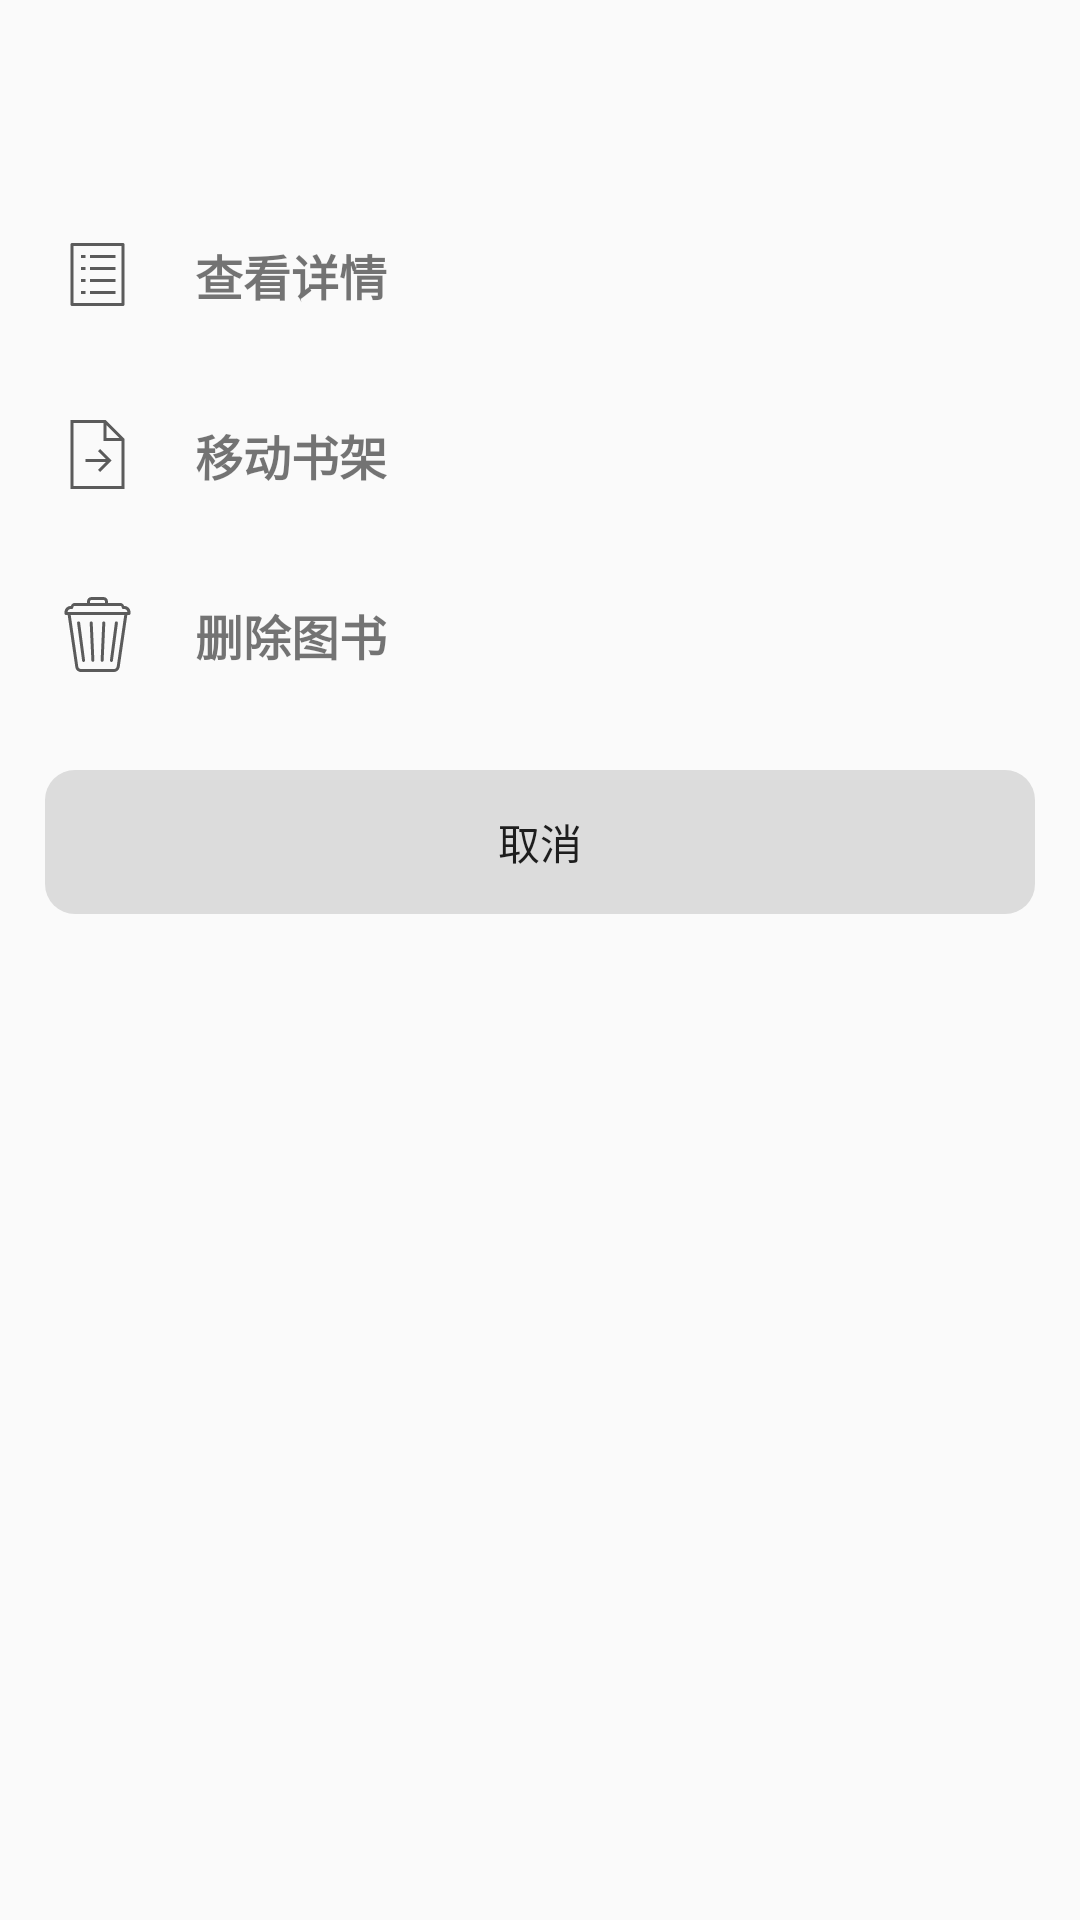

Icon bounding boxes for this 1080 x 1920 phone screenshot, format (x1, y1, x2, y2):
book options detail: (70, 243, 125, 306)
book options move: (70, 420, 125, 489)
left more rubbish: (64, 597, 131, 672)
